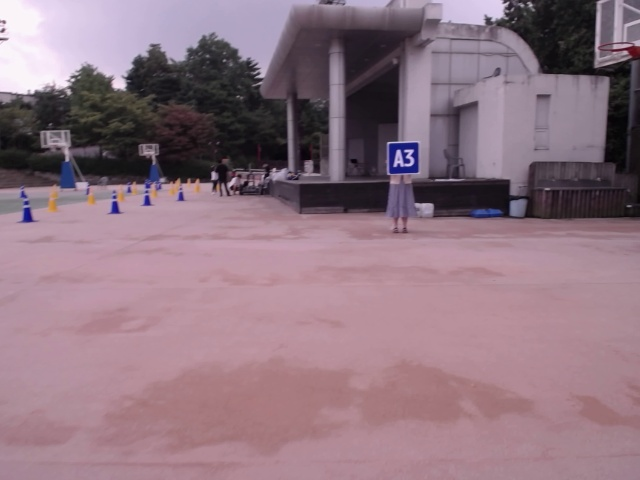delivery_a3: (388, 142, 420, 175)
